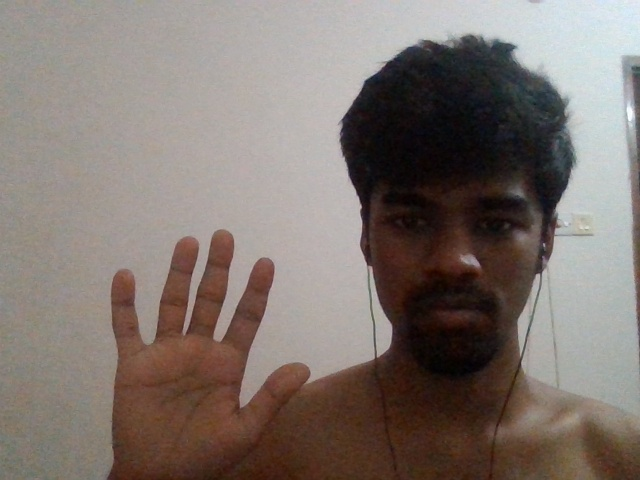Hello: (93, 224, 314, 480)
